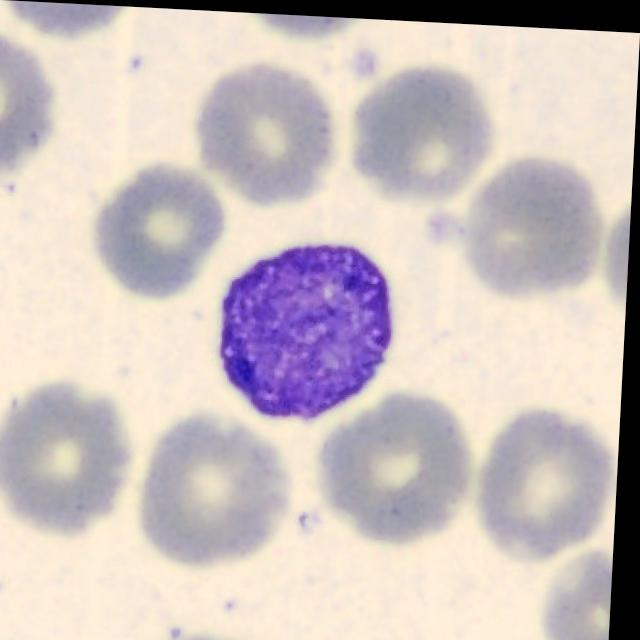Linfocito: (223, 239, 397, 417)
